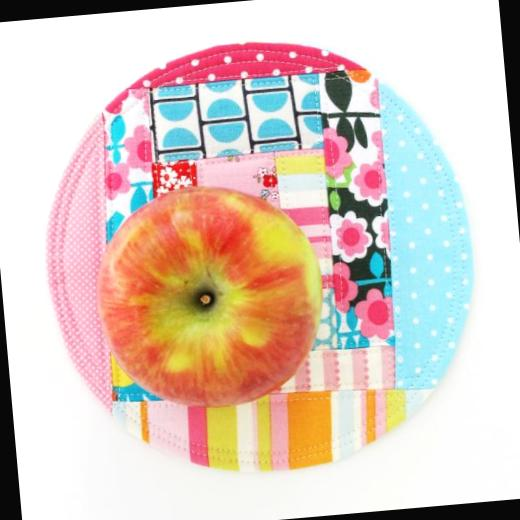Apple: (95, 172, 326, 424)
